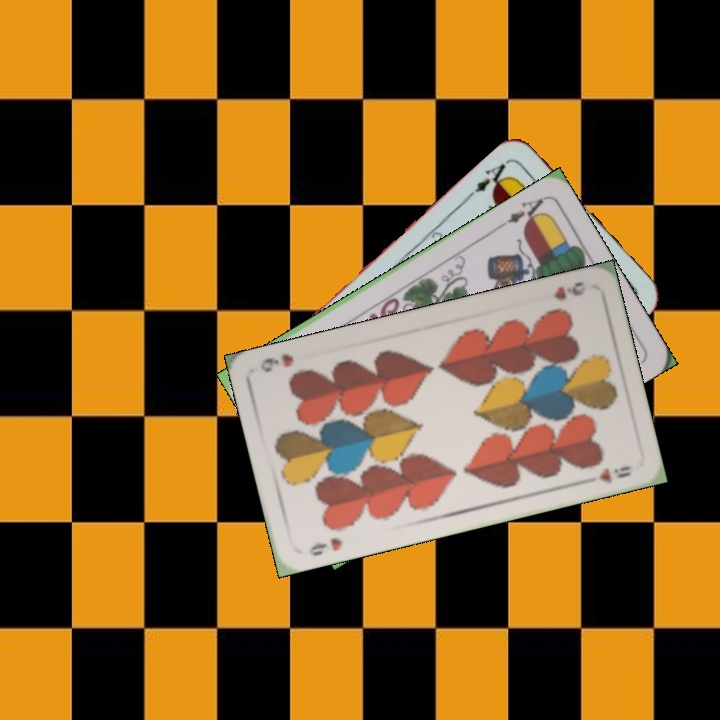EA: (495, 193, 549, 231), (464, 159, 513, 200)
H9: (549, 277, 588, 303), (305, 533, 344, 559)
